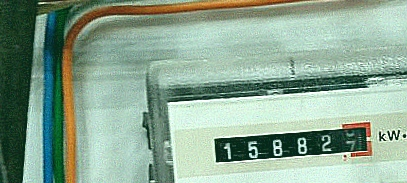1: (220, 139, 233, 159)
2: (319, 132, 332, 151)
5: (245, 138, 258, 158)
7: (344, 137, 356, 152)
8: (270, 135, 283, 157), (295, 134, 308, 156)
screen: (204, 115, 381, 171)
